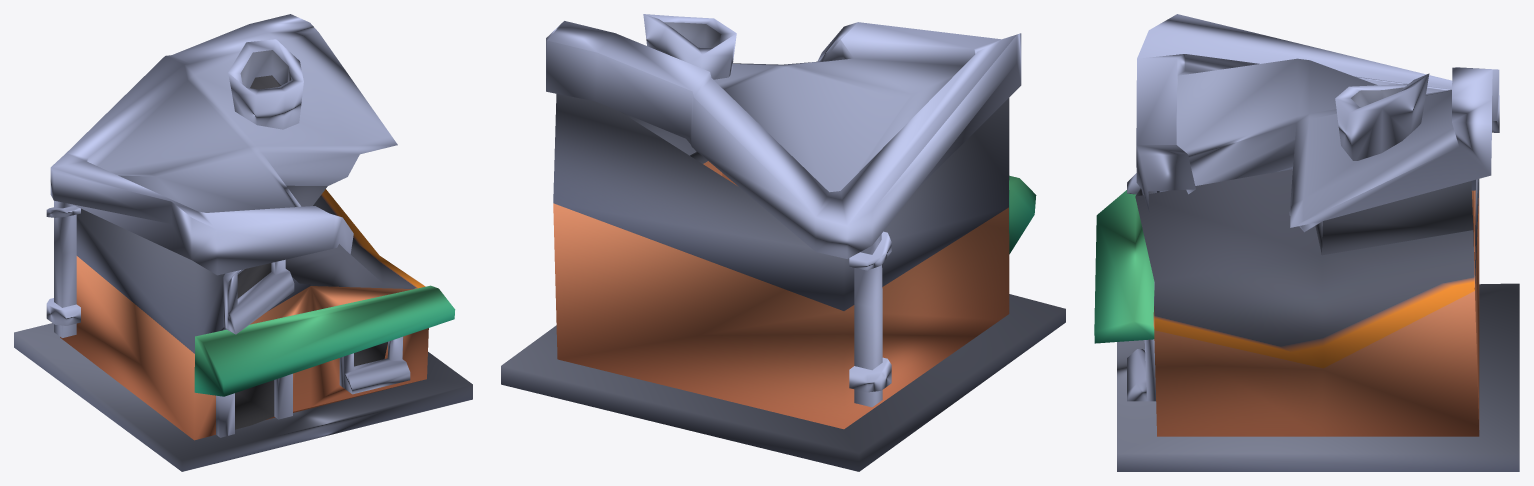
Rendered from building_dent_2.glb.
3 renders of one model, left to right at view 1: azimuth 30°, elevation 25°; view 2: azimuth 150°, elevation 25°; view 3: azimuth 270°, elevation 25°, orthographic. The views are drawn at different scales.
Parts seen in each view (by area): view 1: building-small-d; view 2: building-small-d; view 3: building-small-d.
Boxes of the visible parts, x1,y1,x2,y2 form: building-small-d: (14,14,472,471); building-small-d: (501,14,1065,471); building-small-d: (1094,14,1519,471).
Bounding box in the file's own units: 1 × 0.9471 × 1.06.
1 material, 1 textured.
